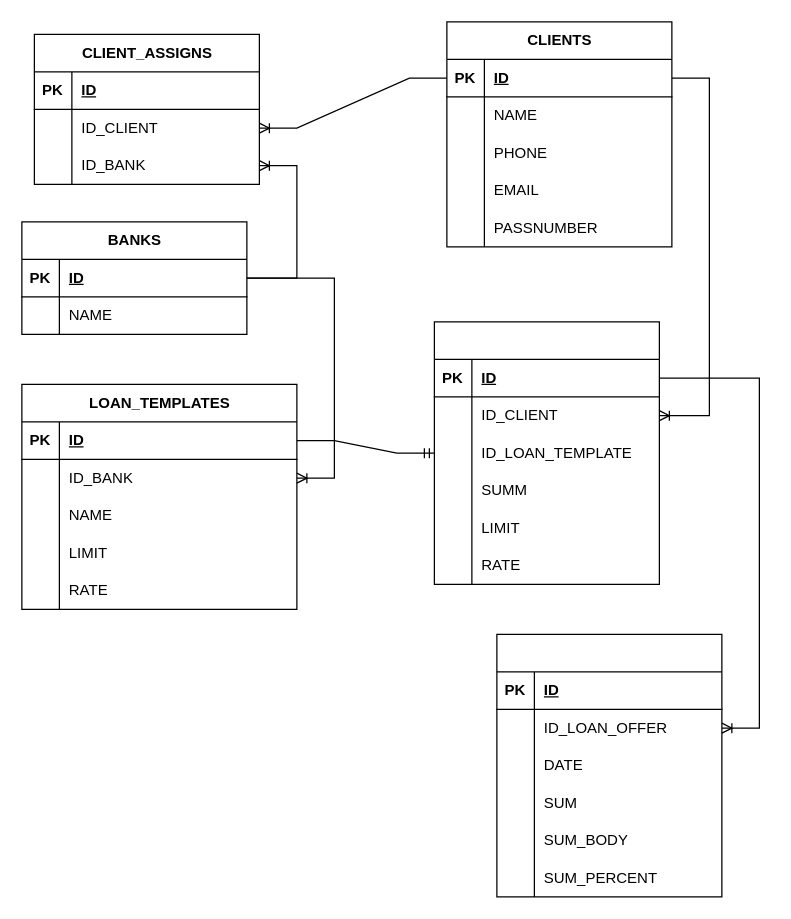
Image size: 791x919. Some labels were removed from this diagram. The shapes that lost their labels are listed below. From the top down, each one's box as (x1, y1, x2, y2) in pixels, then its label:
(433, 321, 659, 584): LOAN_OFFERS
(496, 633, 722, 897): PAY_SHEDULE
